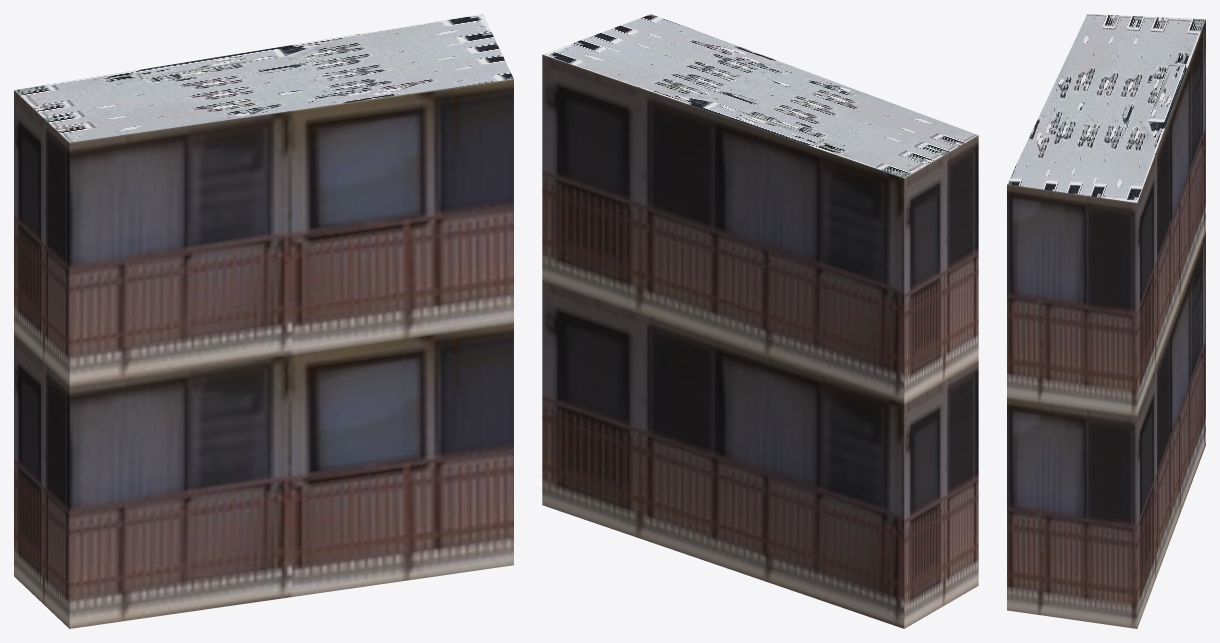
File: ResTex__2659.fbx
The picture shows the model from 3 angles, left to right: view 1: azimuth 30°, elevation 25°; view 2: azimuth 150°, elevation 25°; view 3: azimuth 270°, elevation 25°; orthographic projection. The views are drawn at different scales.
Parts seen in each view (by area): view 1: CityEngineMaterial_6_m, CityEngineMaterial_m; view 2: CityEngineMaterial_6_m, CityEngineMaterial_m; view 3: CityEngineMaterial_6_m, CityEngineMaterial_m.
Boxes of the visible parts, left/top/right/bottom form: CityEngineMaterial_6_m: left=14, top=79, right=513, bottom=628; CityEngineMaterial_m: left=14, top=14, right=513, bottom=142; CityEngineMaterial_6_m: left=542, top=54, right=978, bottom=628; CityEngineMaterial_m: left=543, top=14, right=977, bottom=178; CityEngineMaterial_6_m: left=1007, top=20, right=1205, bottom=628; CityEngineMaterial_m: left=1007, top=14, right=1205, bottom=202.
Bounding box in the file's own units: 5.71 × 6 × 2.54.
2 materials, 2 textured.
